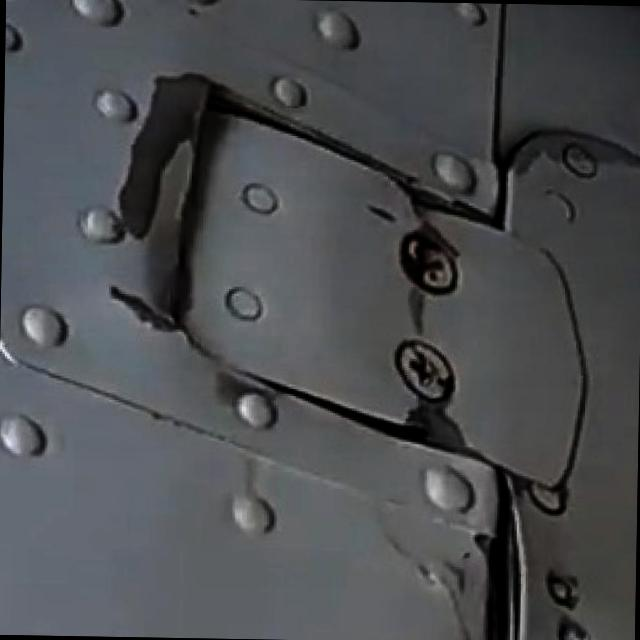crack: (408, 294, 444, 338)
